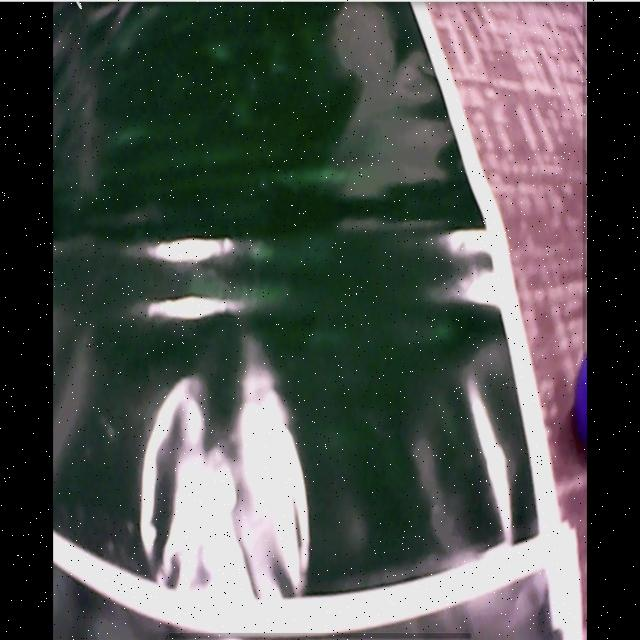ball: (575, 359, 587, 452)
